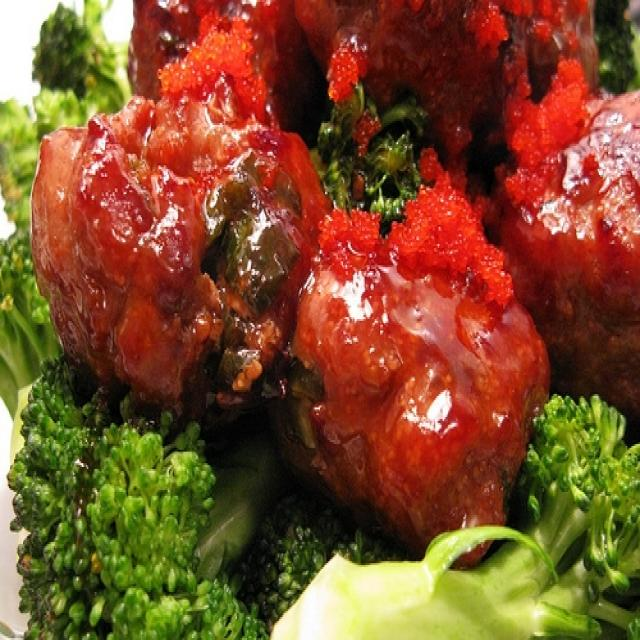猪肉菜式: (1, 15, 635, 623)
